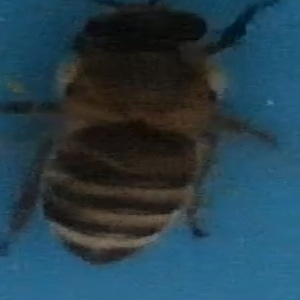bee: (5, 5, 287, 268)
